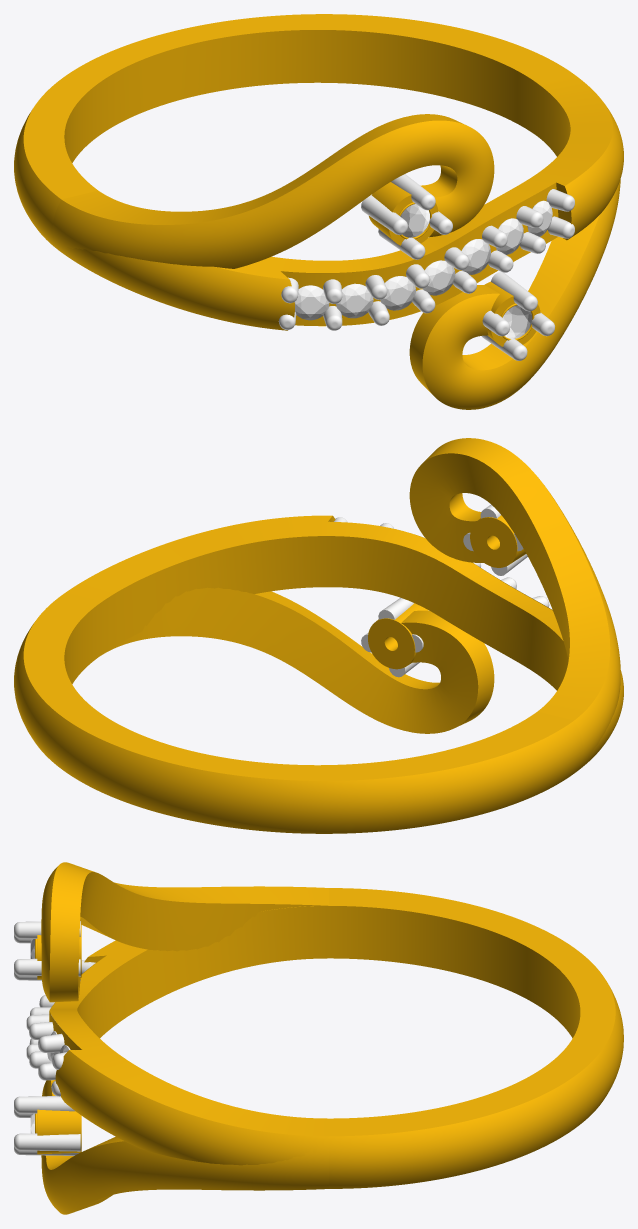
Rendered from ring-m1.glb.
3 renders of one model, top to bottom at view 1: azimuth 30°, elevation 25°; view 2: azimuth 150°, elevation 25°; view 3: azimuth 270°, elevation 25°, orthographic.
Parts seen in each view (by area): view 1: _35, _32, _34, _33, _17, _20, Mesh0 (×8), _21, Bezel_31, Bezel_26, Prong_29, Prong_23 (+1 smaller); view 2: _34, _20, _35, _33, _32, _17, Bezel_26, Bezel_31; view 3: _32, _34, _20, _35, _17, _33, Bezel_26, Prong_24, Prong_23, Prong_27, Prong_30.
Boxes of the visible parts, x1,y1,x2,y2 form: _35: [52, 114, 494, 268]; _32: [175, 14, 573, 135]; _34: [14, 31, 192, 251]; _33: [409, 138, 620, 409]; _17: [60, 235, 451, 330]; _20: [442, 74, 623, 246]; Mesh0 (×8): [294, 204, 532, 338]; _21: [281, 182, 558, 325]; Bezel_31: [369, 182, 438, 245]; Bezel_26: [484, 281, 540, 346]; Prong_29: [361, 195, 407, 234]; Prong_23: [491, 272, 537, 311]; _34: [169, 711, 582, 833]; _20: [62, 515, 460, 656]; _35: [409, 438, 620, 772]; _33: [101, 587, 494, 733]; _32: [14, 595, 188, 816]; _17: [438, 560, 623, 771]; Bezel_26: [368, 603, 428, 669]; Bezel_31: [470, 515, 526, 567]; _32: [329, 1013, 623, 1188]; _34: [329, 888, 623, 1038]; _20: [49, 1010, 328, 1165]; _35: [41, 862, 328, 1002]; _17: [50, 906, 328, 1038]; _33: [41, 1080, 328, 1214]; Bezel_26: [35, 1109, 81, 1154]; Prong_24: [14, 1133, 80, 1151]; Prong_23: [14, 1096, 74, 1113]; Prong_27: [14, 958, 80, 976]; Prong_30: [14, 921, 80, 938].
Bounding box in the file's own units: 20.94 × 11.35 × 21.01.
